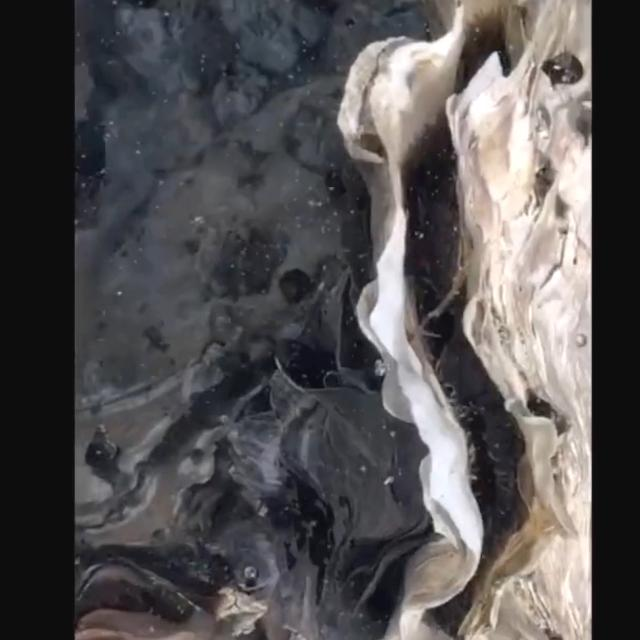Oyster-Open: (343, 0, 597, 640), (70, 78, 372, 532)
